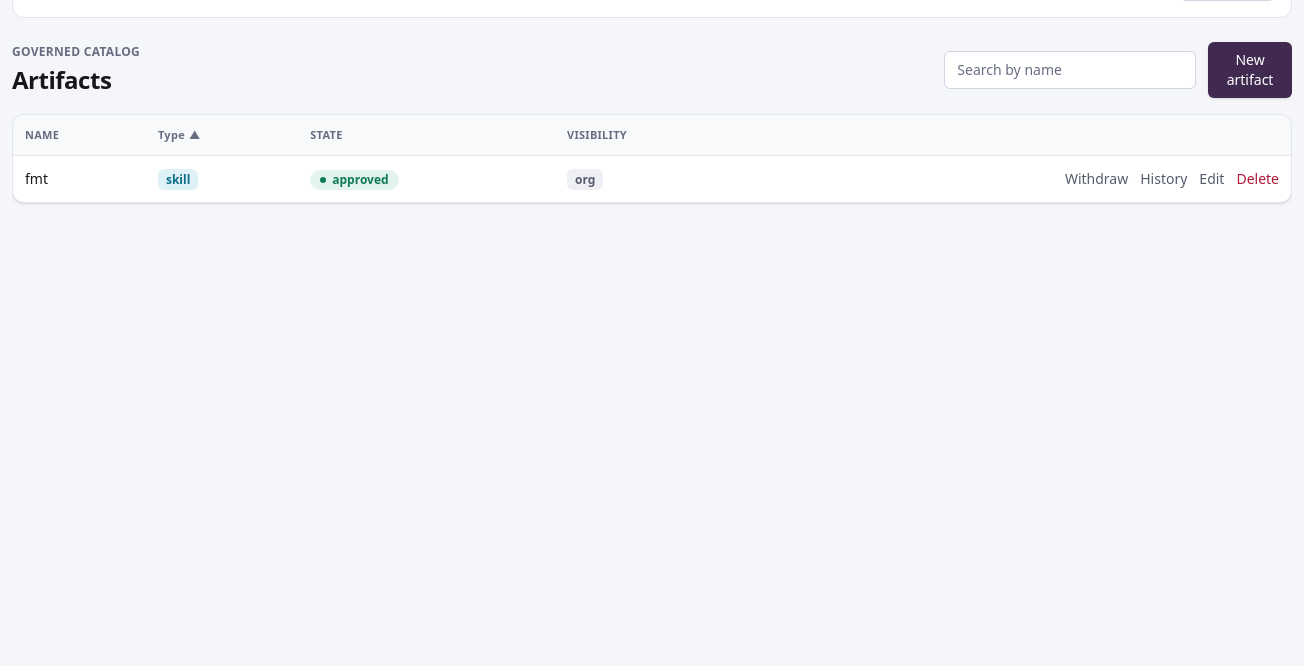
it: 412 on save: shows the reload message, reload refetches the by-id query, and the PUT is never auto-retried
Click the button with aria-label "edit fmt". click: (1212, 179)
box: x1=1199 y1=169 x2=1224 y2=189
(page scrolled)
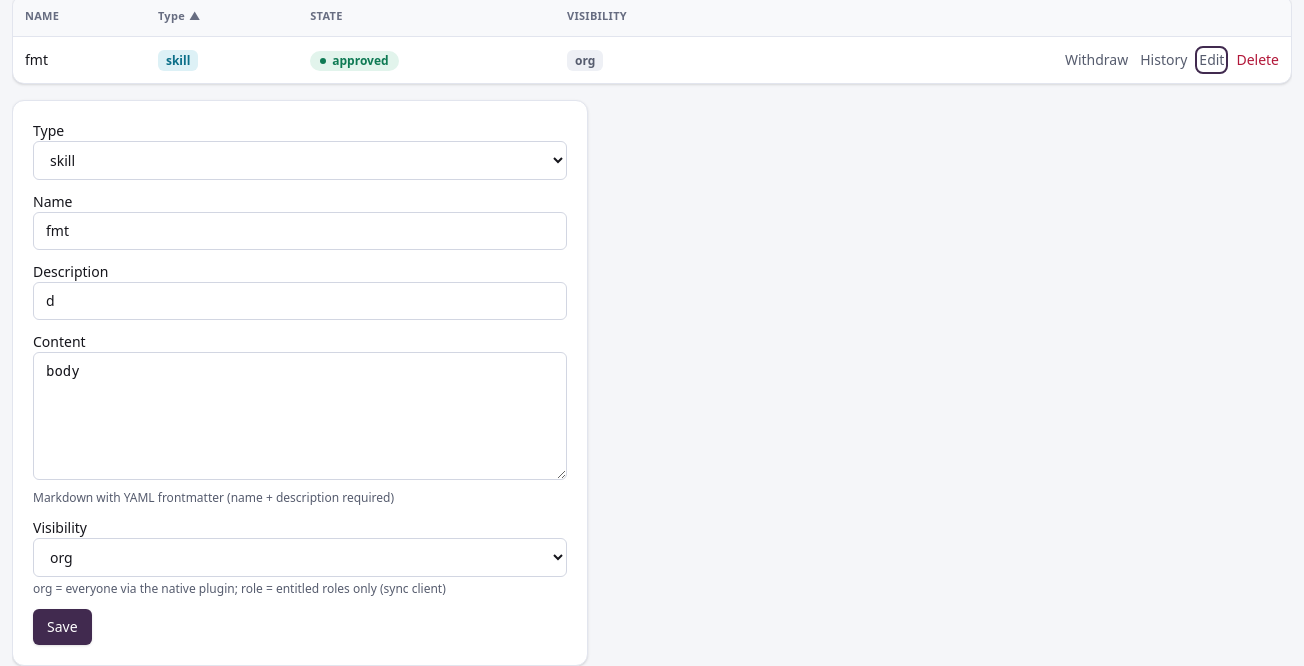
Now the text box labelled "Content" is shown, box x1=33 y1=352 x2=567 y2=480
Click the button "Save". click: (62, 627)
box: x1=33 y1=609 x2=92 y2=645
(page scrolled)
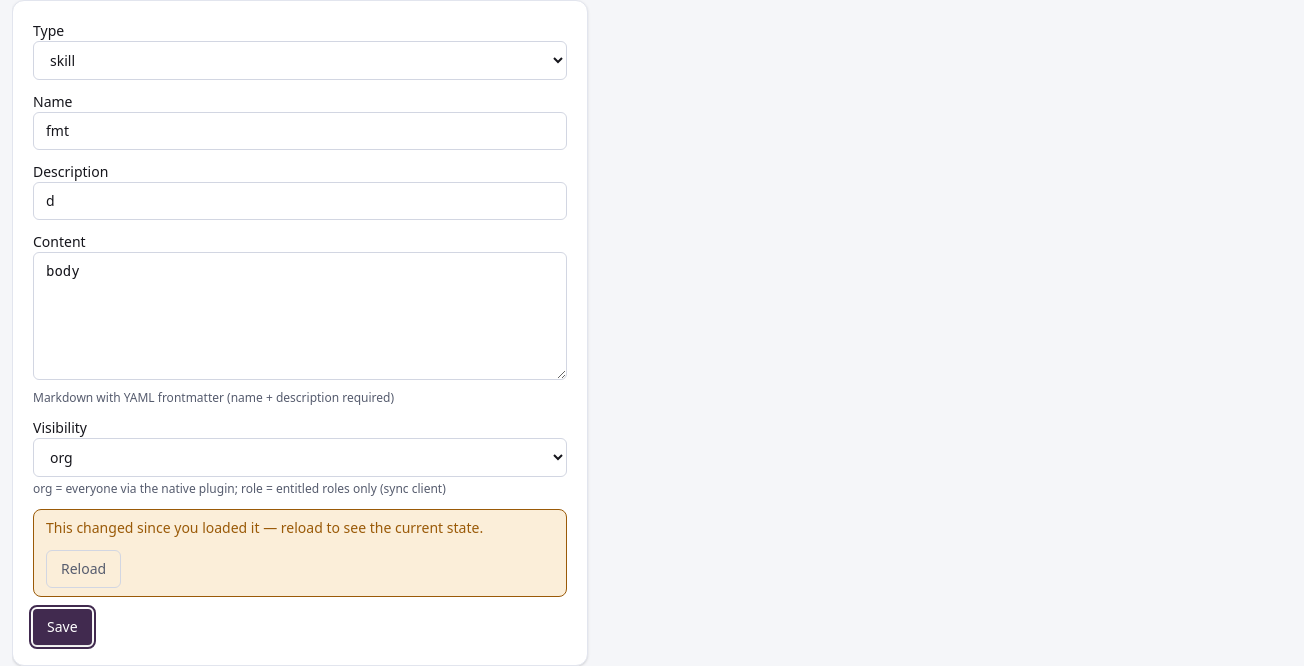
Now the text "This changed since you loaded it — reload to see the current state" is shown, box x1=46 y1=518 x2=483 y2=537
Click the button "Reload". click: (84, 569)
box: x1=46 y1=550 x2=121 y2=588
(page scrolled)
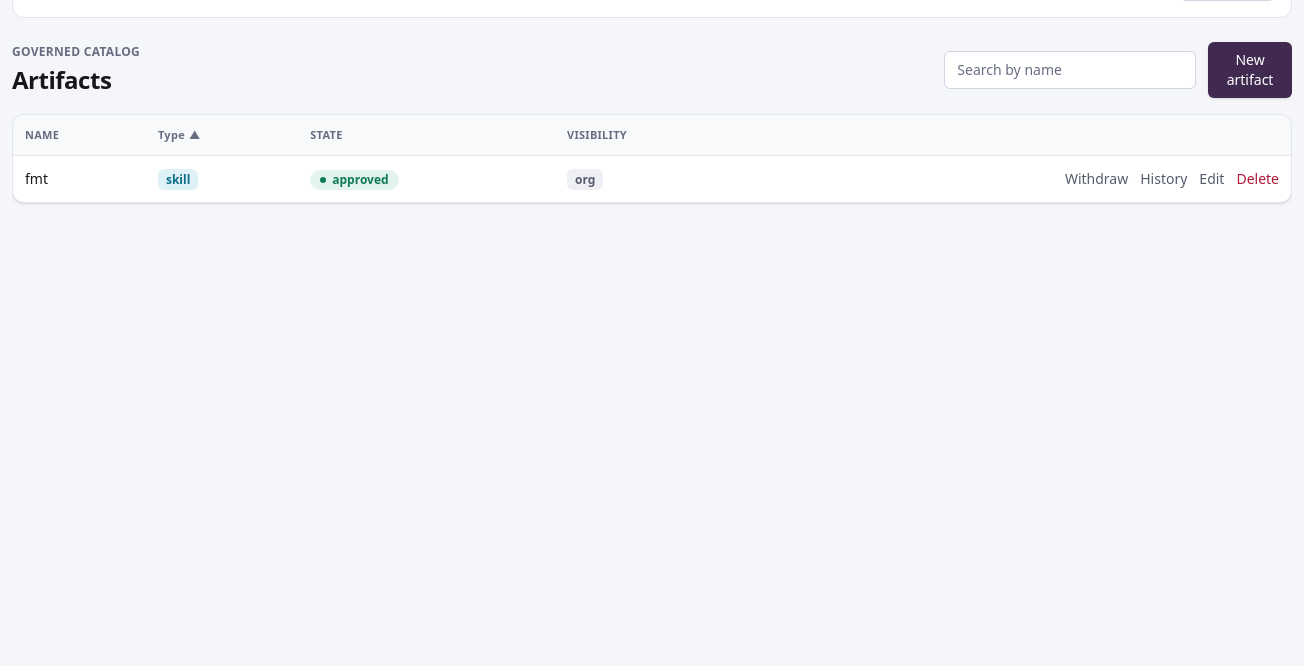
Now the button "Save" is gone
